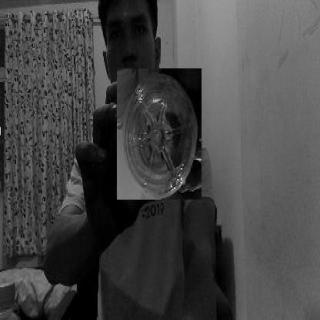plastic_bottles: (117, 68, 201, 200)
